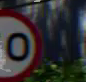Speed limit: (0, 6, 42, 79)
